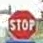stop: (6, 8, 37, 39)
